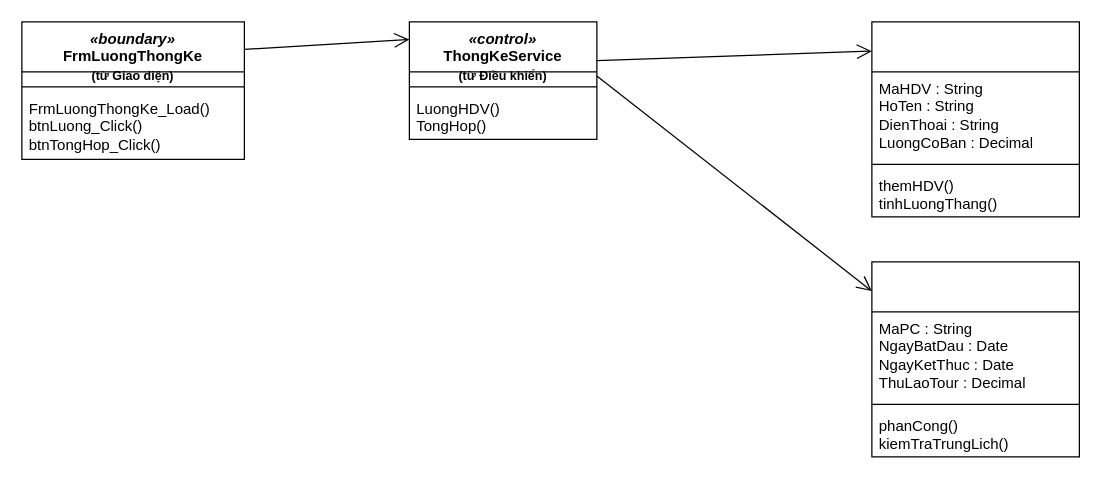
This 1101x483 diagram has some shape labels left out. Each missing label, with the box of its shape:
«entity» HuongDanVien (từ Thực thể): (871, 21, 1079, 217)
«entity» PhanCong (từ Thực thể): (871, 261, 1079, 457)
